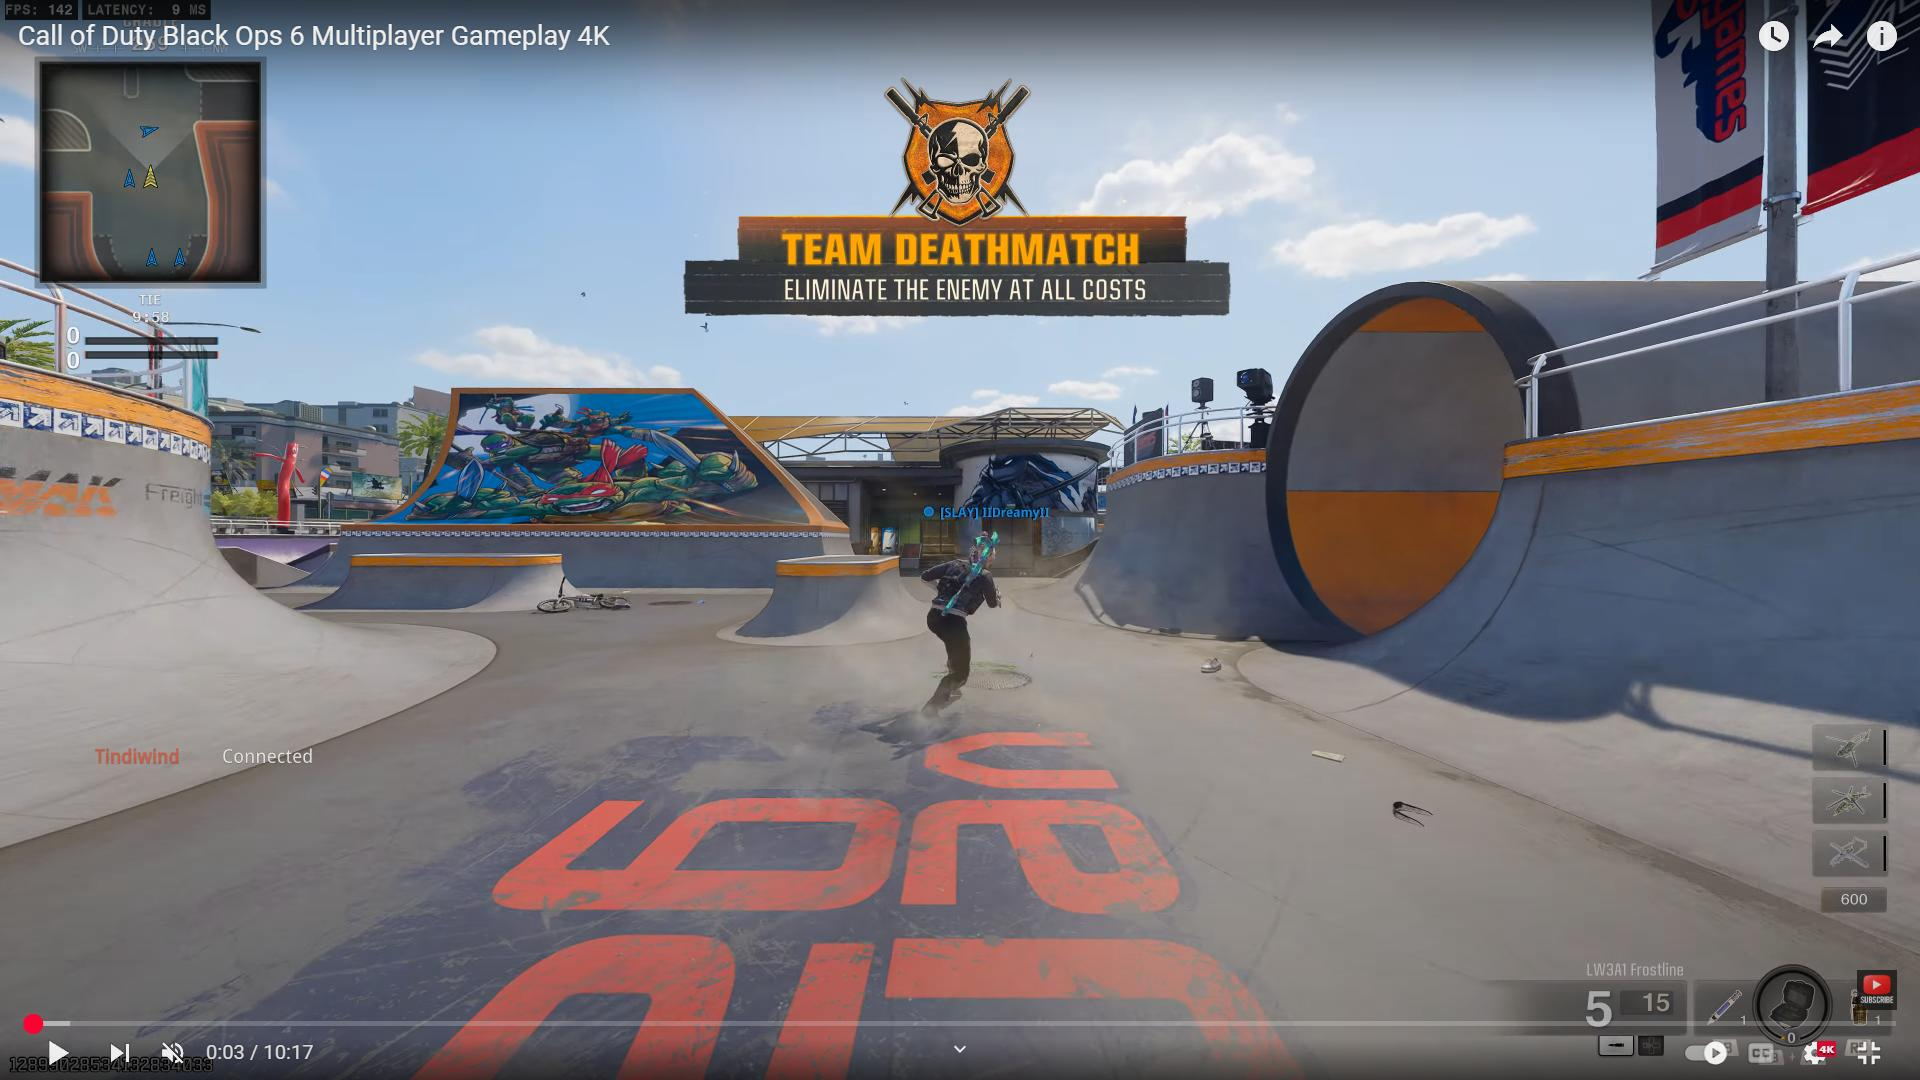Enemy: (906, 535, 1004, 707)
